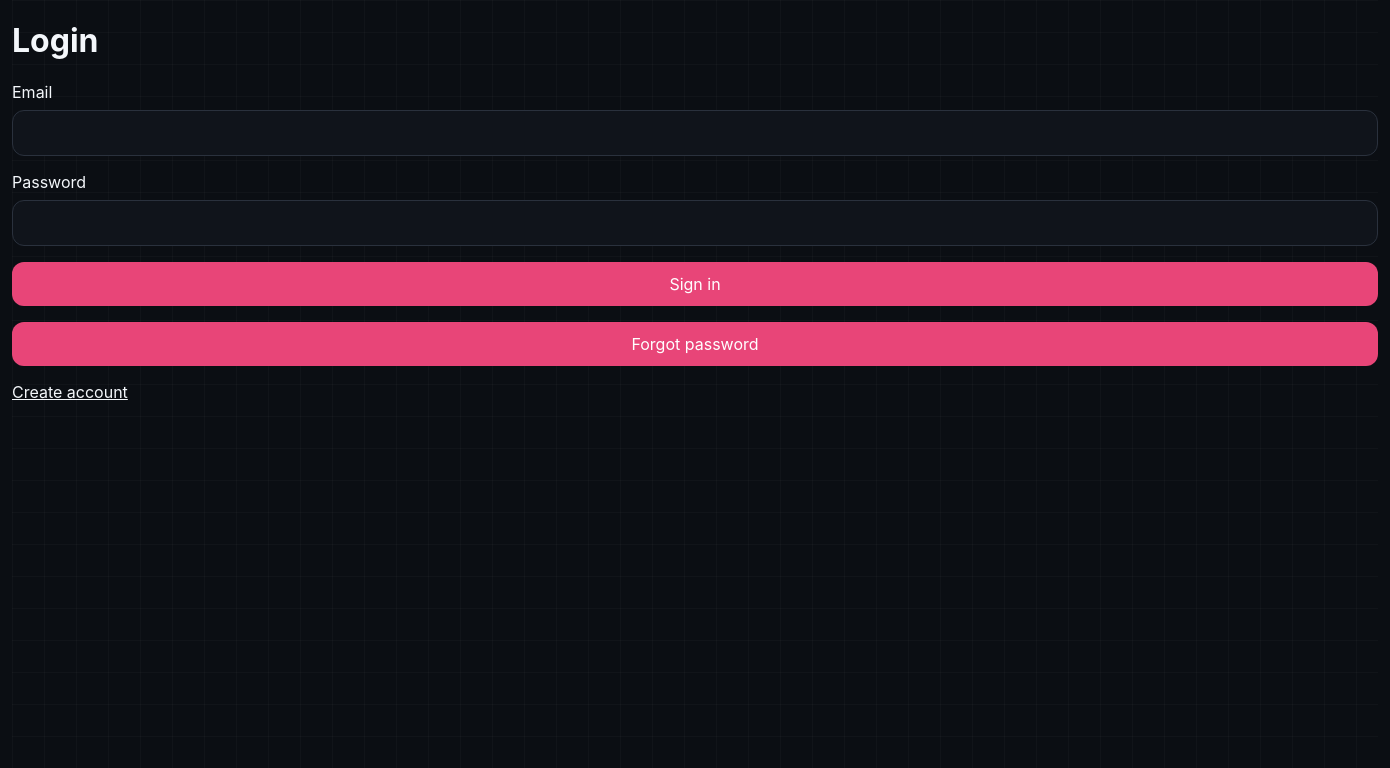
it: LoginPage › validates empty submit
Step 1. Click the button "Sign in" → (695, 284), box left=12, top=262, right=1378, bottom=306
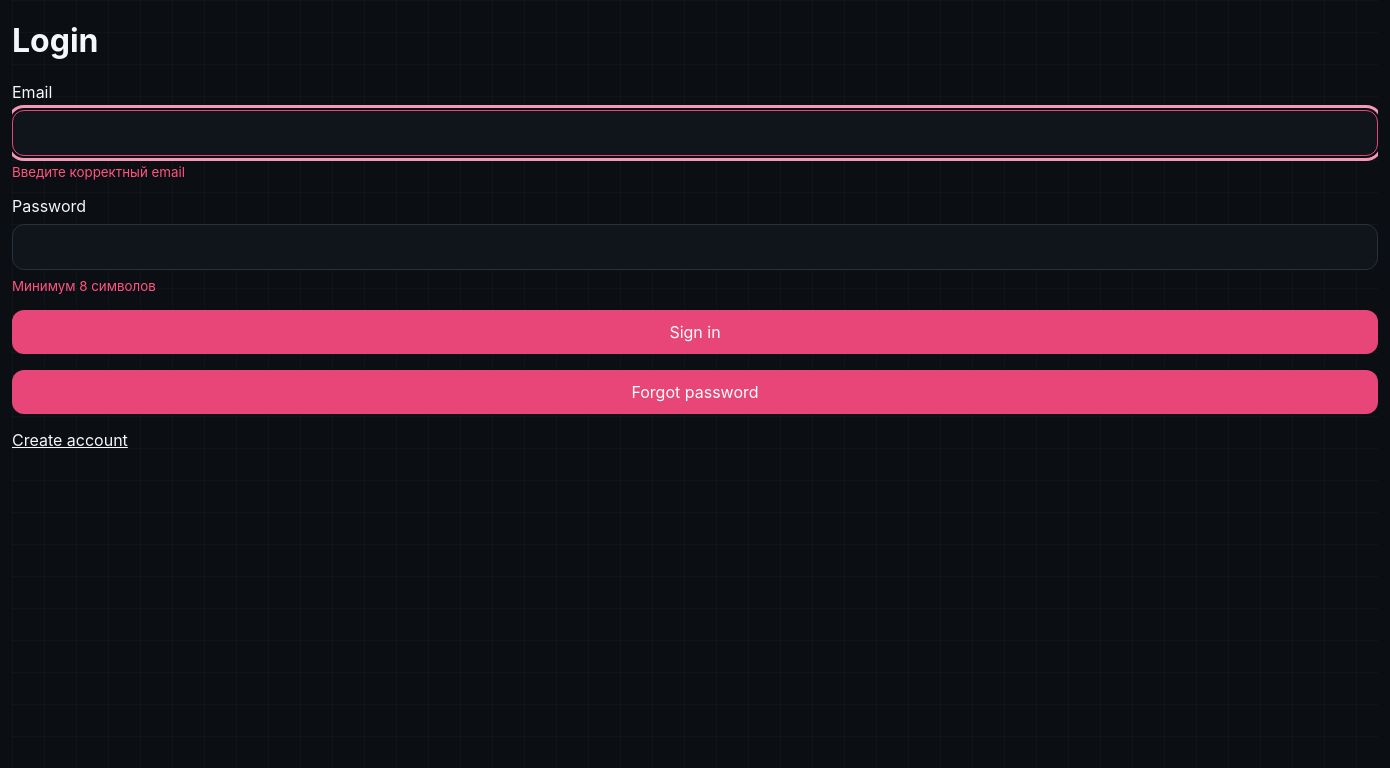
Result: the text "Введите корректный email" is shown at left=12, top=164, right=185, bottom=180
Result: the text "Минимум 8 символов" is shown at left=12, top=278, right=156, bottom=294
